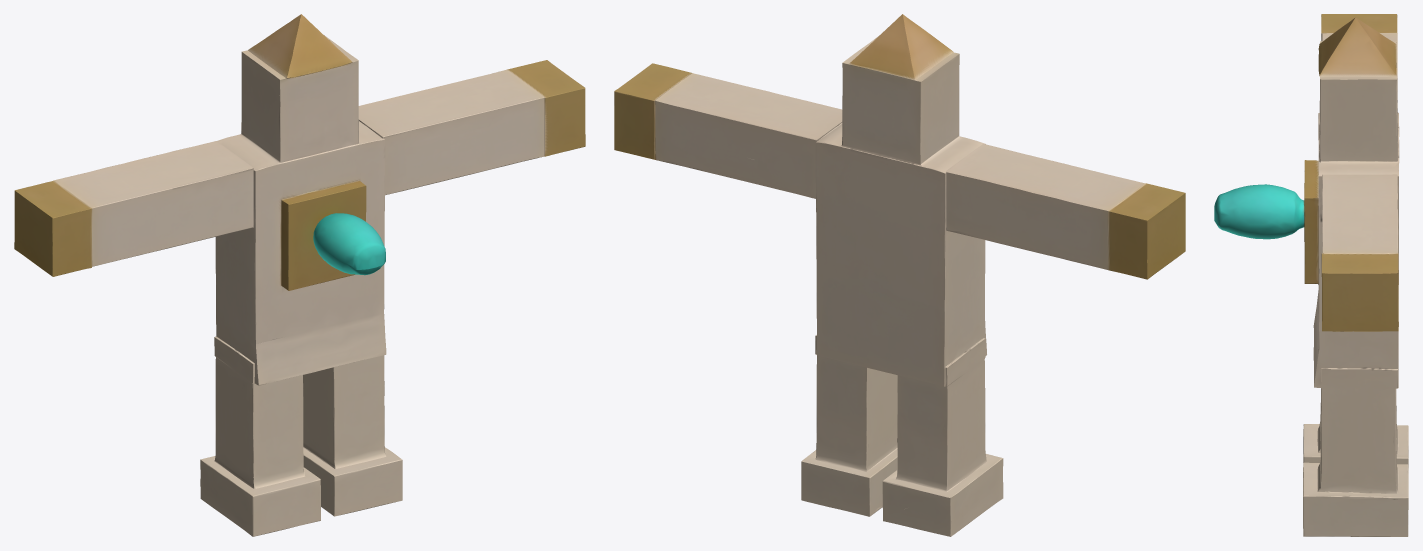
File: guardian.glb
3 renders of one model, left to right at view 1: azimuth 30°, elevation 25°; view 2: azimuth 150°, elevation 25°; view 3: azimuth 270°, elevation 25°, orthographic.
Visible parts, largest first — view 1: model.008; view 2: model.008; view 3: model.008.
Part boxes in pixels (x1,y1,x2,y2): model.008: (14,14,585,536); model.008: (614,14,1185,536); model.008: (1214,14,1408,536).
Bounding box in the file's own units: 1.9 × 1.66 × 0.6041.
1 material, 1 textured.
